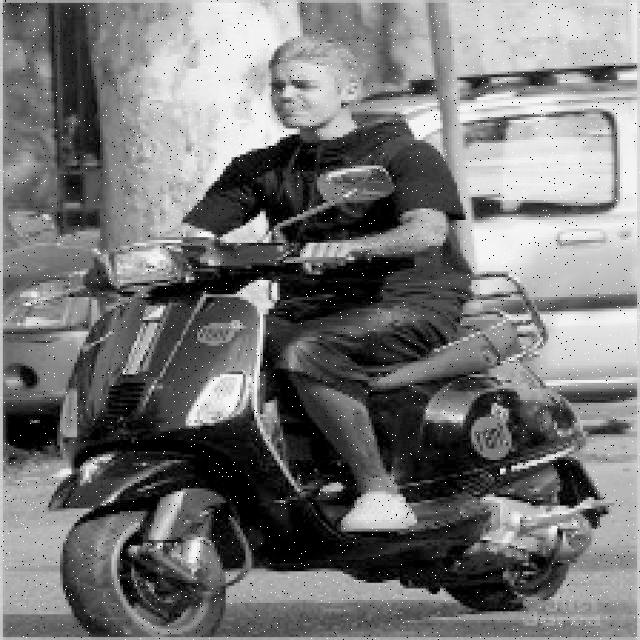Bike: (33, 237, 593, 639)
